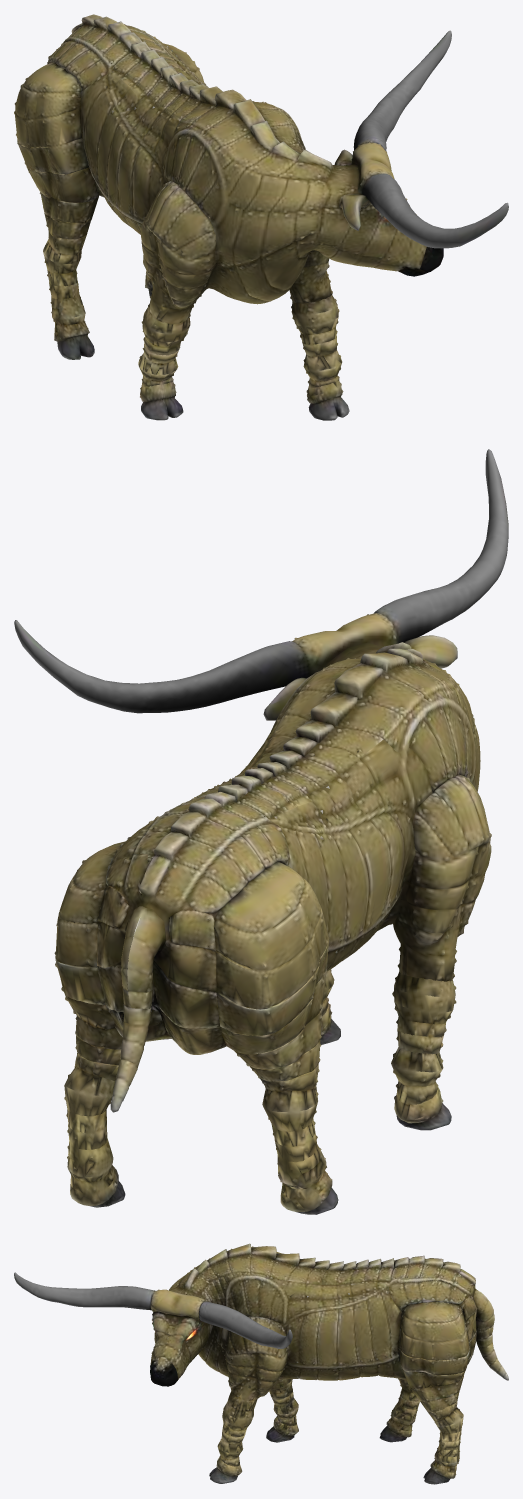
The model's file is MZ4250 - Bronze Ox Golem_new.glb.
3 views of the same model, one above another, from view 1: azimuth 30°, elevation 25°; view 2: azimuth 150°, elevation 25°; view 3: azimuth 270°, elevation 25° (orthographic). The views are drawn at different scales.
Parts seen in each view (by area): view 1: ORGANIC BASE SPHERE.001; view 2: ORGANIC BASE SPHERE.001; view 3: ORGANIC BASE SPHERE.001.
Part boxes in pixels (x1,y1,x2,y2): ORGANIC BASE SPHERE.001: [14, 14, 508, 420]; ORGANIC BASE SPHERE.001: [14, 449, 508, 1214]; ORGANIC BASE SPHERE.001: [14, 1243, 508, 1484].
Size of the model in its own units: 85.23 by 80.04 by 167.
Materials: 1 (1 with a texture image).
